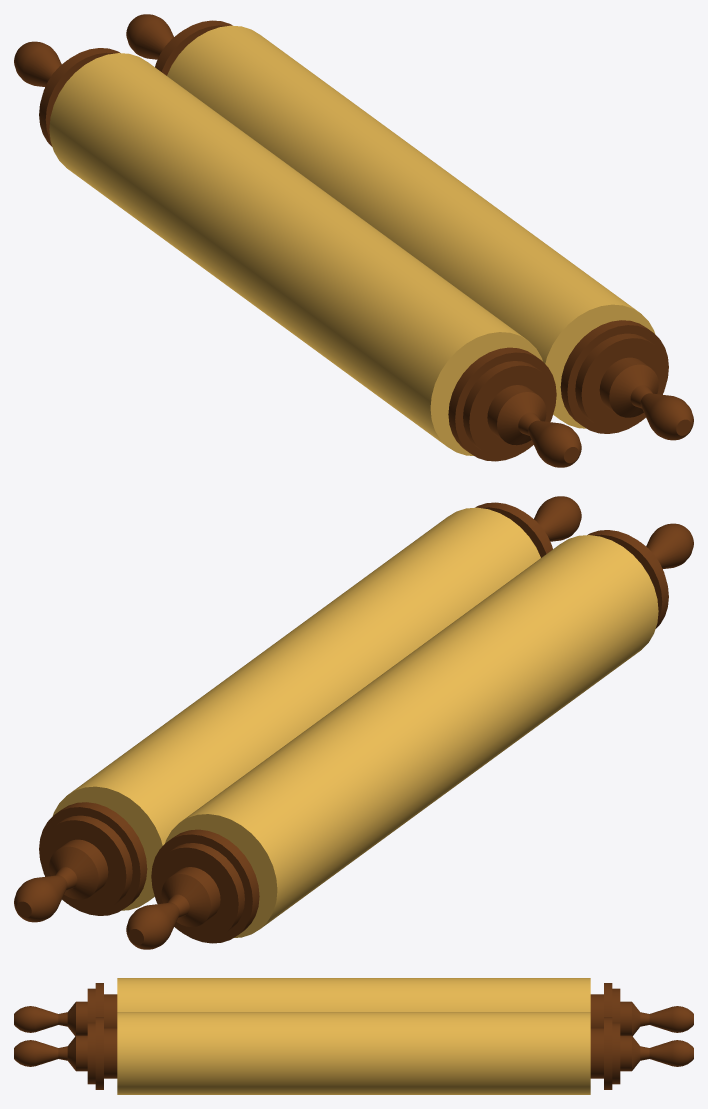
Rendered from Scroll.fbx.
3 views of the same model, one above another, from view 1: azimuth 30°, elevation 25°; view 2: azimuth 150°, elevation 25°; view 3: azimuth 270°, elevation 25° (orthographic). The views are drawn at different scales.
Visible parts, largest first — view 1: Cylinder; view 2: Cylinder; view 3: Cylinder.
Boxes of the visible parts, x1=… form: Cylinder: x1=14, y1=14, x2=693, y2=467; Cylinder: x1=14, y1=496, x2=693, y2=949; Cylinder: x1=14, y1=978, x2=693, y2=1094.
Size of the model in its own units: 41.05 by 20.84 by 171.
